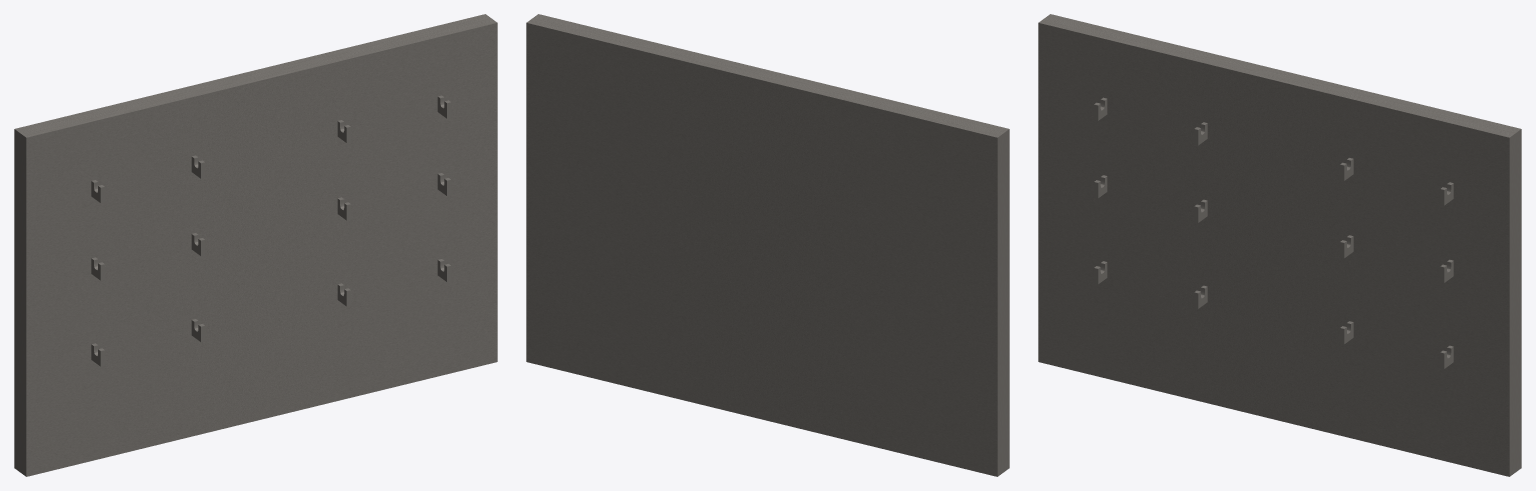
File: baton shelf.fbx
3 renders of one model, left to right at view 1: azimuth 30°, elevation 25°; view 2: azimuth 150°, elevation 25°; view 3: azimuth 330°, elevation 25°, orthographic.
Visible parts, largest first — view 1: pCube463; view 2: pCube463; view 3: pCube463.
Part boxes in pixels (x1,y1,x2,y2): pCube463: (14, 14, 497, 476); pCube463: (526, 14, 1009, 476); pCube463: (1038, 14, 1521, 476).
Bounding box in the file's own units: 3.09 × 2.13 × 0.243.
1 material, 1 textured.
